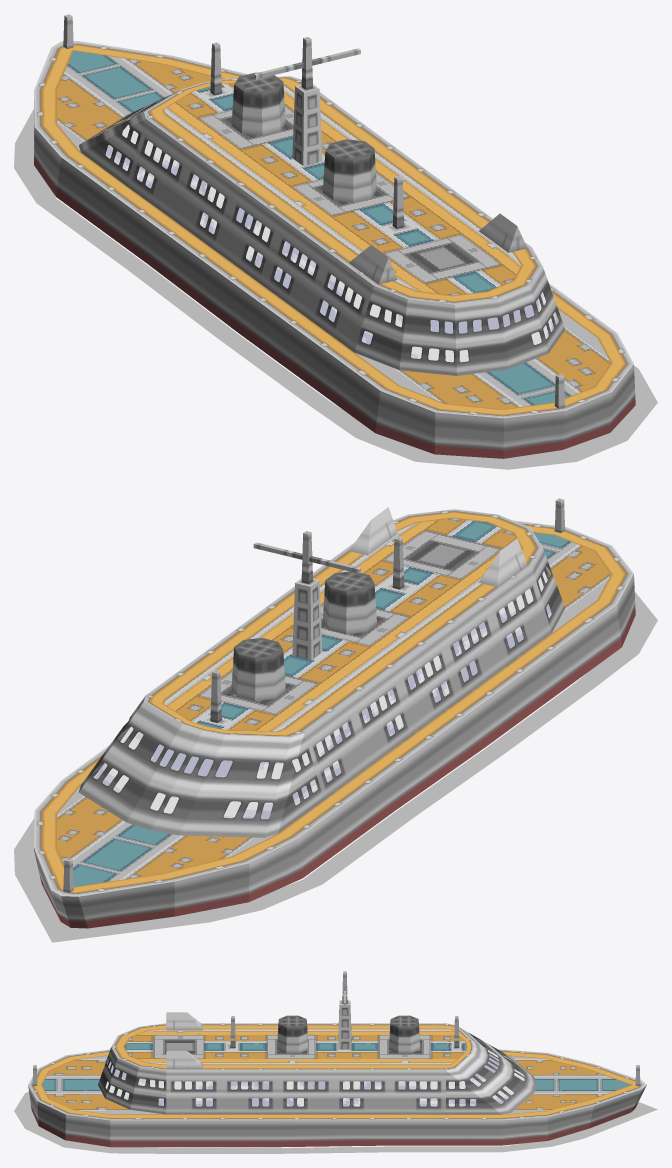
The picture shows the model from 3 angles, top to bottom: view 1: azimuth 30°, elevation 25°; view 2: azimuth 150°, elevation 25°; view 3: azimuth 270°, elevation 25°; orthographic projection. The views are drawn at different scales.
Parts seen in each view (by area): view 1: polygon0, polygon3, polygon2, polygon1; view 2: polygon0, polygon3, polygon2, polygon1; view 3: polygon0, polygon3, polygon2, polygon1.
Boxes of the visible parts, <box> form: polygon0: <box>34,14,635,458</box>; polygon3: <box>57,51,610,409</box>; polygon2: <box>14,109,657,469</box>; polygon1: <box>105,124,557,362</box>; polygon0: <box>34,498,635,928</box>; polygon3: <box>57,518,610,886</box>; polygon2: <box>14,591,657,942</box>; polygon1: <box>94,571,551,819</box>; polygon0: <box>28,971,646,1147</box>; polygon3: <box>42,1029,630,1114</box>; polygon2: <box>14,1091,657,1153</box>; polygon1: <box>105,1047,524,1106</box>.
Size of the model in its own units: 3.62 by 2.73 by 11.51.
